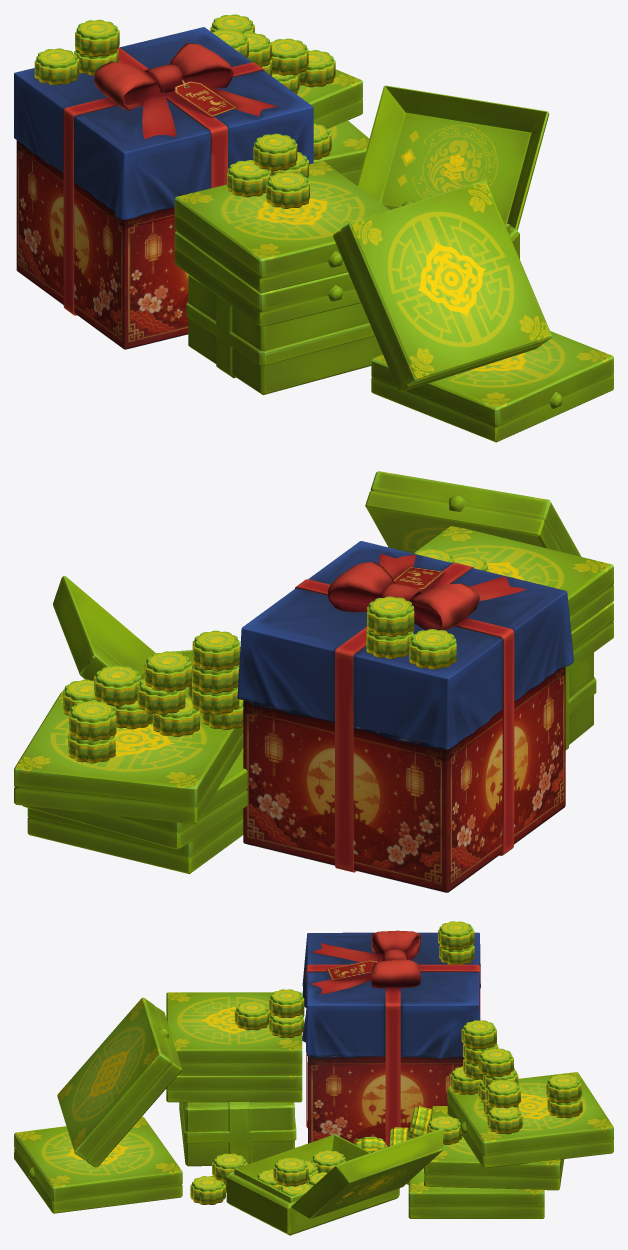
The model's file is banh_H1.fbx.
3 renders of one model, top to bottom at view 1: azimuth 30°, elevation 25°; view 2: azimuth 150°, elevation 25°; view 3: azimuth 270°, elevation 25°, orthographic. The views are drawn at different scales.
Parts seen in each view (by area): view 1: MAP_OBJ_GIFT_01, hopvuong6, banhhoa2, hopvuong3, hopvuong5, hop, hopvuong2, hopvuong1, hopvuong, banhhoa31, banhhoa16, banhhoa29 (+9 smaller); view 2: MAP_OBJ_GIFT_01, hopvuong1, hopvuong6, hopvuong3, hopvuong4, banhhoa2, hopvuong, hop, banhhoa27, banhhoa29, banhhoa21, banhhoa23 (+12 smaller); view 3: MAP_OBJ_GIFT_01, banhhoa2, hopvuong6, hopvuong5, hopvuong3, hopvuong1, hop, hopvuong4, hopvuong, hopvuong2, banhhoa14, banhhoa21 (+15 smaller).
Part boxes in pixels (box(x1,y1,x2,y2)): MAP_OBJ_GIFT_01: box(14, 27, 313, 349); hopvuong6: box(333, 180, 552, 391); banhhoa2: box(357, 85, 549, 259); hopvuong3: box(174, 161, 389, 293); hopvuong5: box(371, 331, 613, 442); hop: box(186, 275, 382, 394); hopvuong2: box(174, 231, 360, 327); hopvuong1: box(297, 69, 362, 128); hopvuong: box(313, 120, 369, 184); banhhoa31: box(34, 48, 79, 85); banhhoa16: box(253, 133, 297, 171); banhhoa29: box(75, 19, 119, 56); MAP_OBJ_GIFT_01: box(237, 541, 573, 892); hopvuong1: box(14, 691, 243, 824); hopvuong6: box(365, 471, 581, 556); hopvuong3: box(413, 526, 613, 631); hopvuong4: box(27, 808, 243, 873); banhhoa2: box(53, 576, 240, 700); hopvuong: box(23, 748, 247, 849); hop: box(565, 652, 596, 750); banhhoa27: box(68, 700, 116, 741); banhhoa29: box(367, 596, 414, 637); banhhoa21: box(192, 630, 239, 671); banhhoa23: box(144, 651, 191, 692); MAP_OBJ_GIFT_01: box(302, 930, 480, 1146); banhhoa2: box(226, 1128, 443, 1235); hopvuong6: box(57, 997, 181, 1167); hopvuong5: box(14, 1116, 182, 1213); hopvuong3: box(166, 992, 302, 1075); hopvuong1: box(447, 1072, 613, 1168); hop: box(179, 1102, 296, 1166); hopvuong4: box(407, 1138, 544, 1218); hopvuong: box(424, 1106, 564, 1190); hopvuong2: box(166, 1075, 302, 1102); banhhoa14: box(273, 1157, 308, 1186); banhhoa21: box(461, 1020, 496, 1049).
Size of the model in its own units: 1554 by 791 by 2286.
